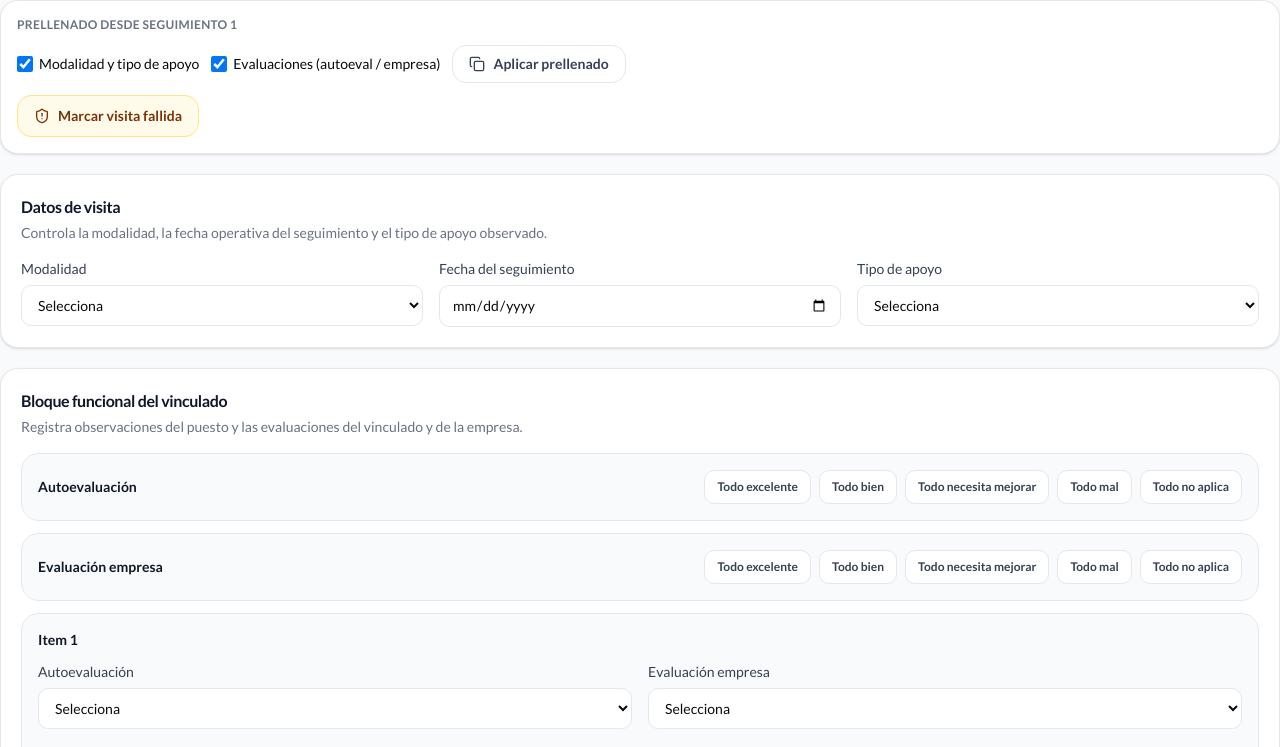
SeguimientosFollowupStageEditor › applies copy-forward only for checked groups
This screenshot has width=1280, height=747.
Click the checkbox labelled "Modalidad y tipo de apoyo": (25, 64) [17,56,33,72]
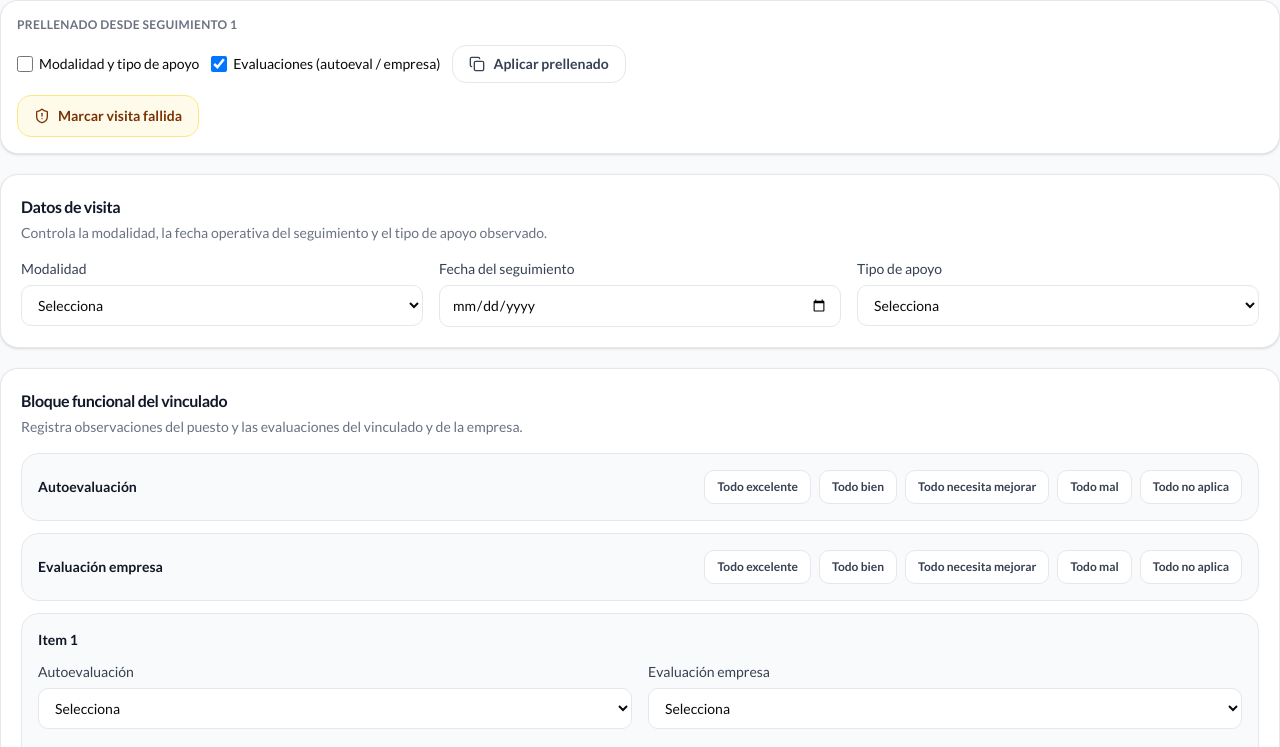
Click the button with test id "seguimientos-apply-copy-forward": (539, 64) [452,45,626,83]
(page scrolled)
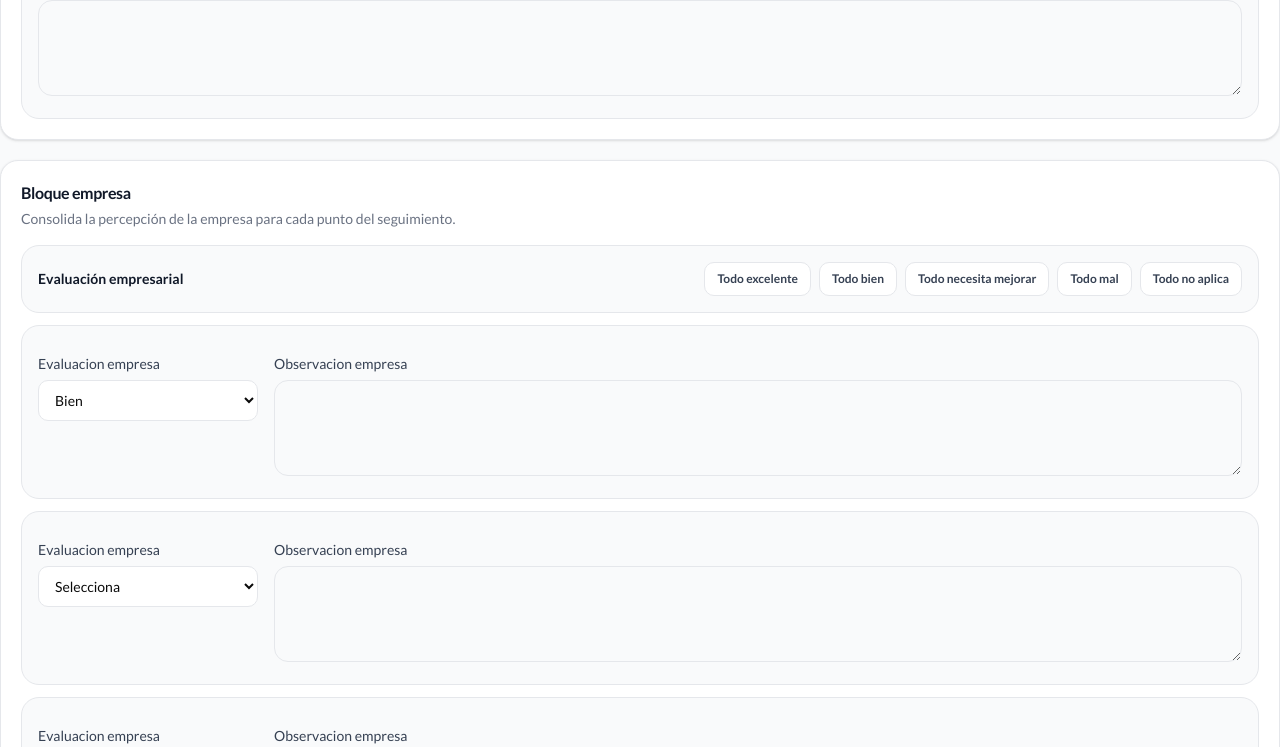
Now the dropdown with id "empresa_eval" shows "Bien", box [38,380,258,421]
